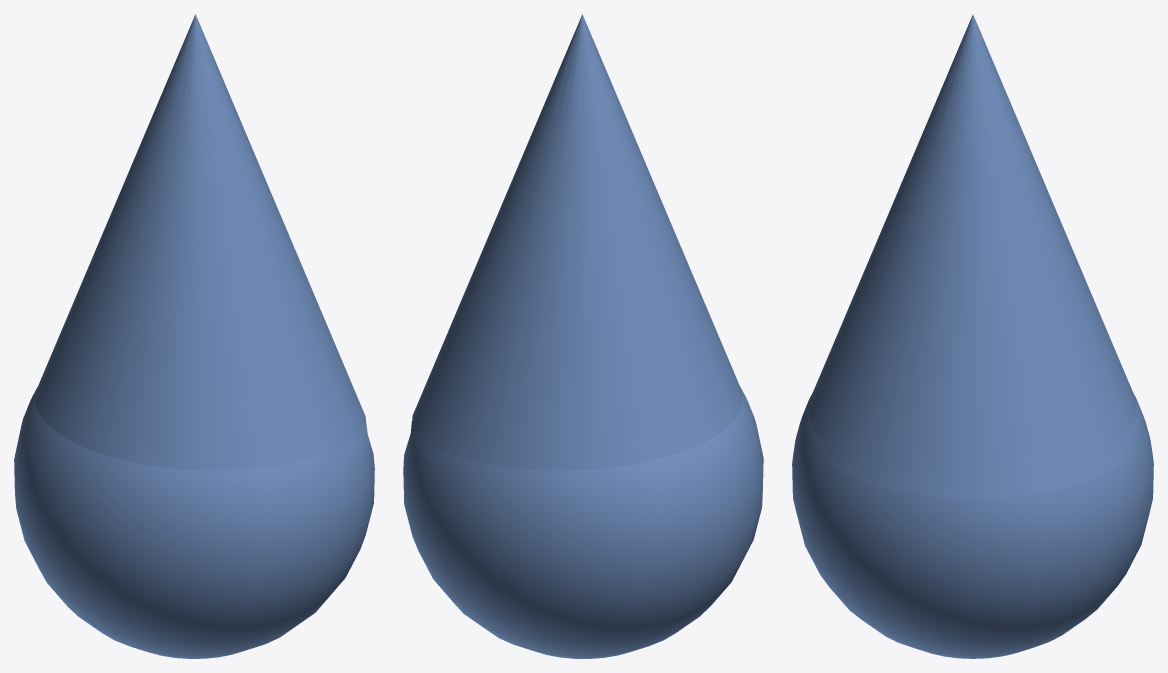
Rendered from 3dthrow_water.fbx.
The picture shows the model from 3 angles, left to right: view 1: azimuth 30°, elevation 25°; view 2: azimuth 150°, elevation 25°; view 3: azimuth 270°, elevation 25°; orthographic projection.
Parts seen in each view (by area): view 1: 物件_1; view 2: 物件_1; view 3: 物件_1.
Part boxes in pixels (bbox=[...]): 物件_1: bbox=[14, 14, 374, 658]; 物件_1: bbox=[403, 14, 763, 658]; 物件_1: bbox=[792, 14, 1153, 658].
Bounding box in the file's own units: 16.16 × 16.16 × 30.97.
